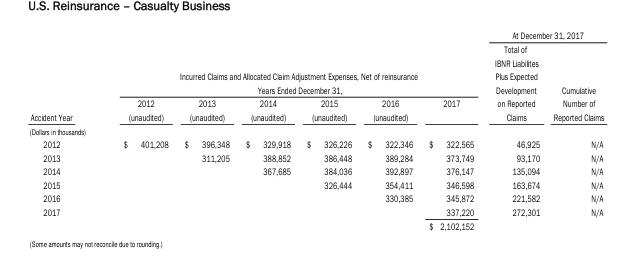table: (28, 29, 603, 230)
table column: (97, 29, 175, 230), (28, 29, 97, 230), (420, 29, 483, 230), (483, 29, 546, 230), (236, 29, 298, 230), (175, 29, 236, 230), (298, 29, 359, 230), (359, 29, 420, 230), (546, 29, 603, 230)
table column header: (28, 29, 603, 109)
table projected row header: (28, 123, 603, 137)
table row: (28, 41, 603, 96), (28, 109, 603, 123), (28, 123, 603, 137), (28, 150, 603, 164), (28, 177, 603, 191), (28, 204, 603, 218), (28, 96, 603, 109), (28, 137, 603, 150), (28, 164, 603, 177), (28, 191, 603, 204), (28, 29, 603, 41), (28, 218, 603, 230)
table spanning cell: (97, 29, 483, 96), (483, 41, 546, 109), (546, 41, 603, 109), (28, 204, 97, 230), (483, 29, 603, 41)
